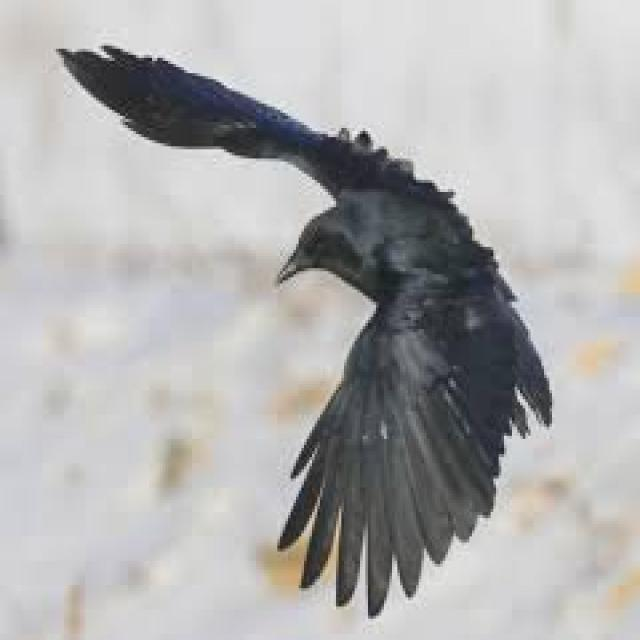crow: (121, 76, 504, 493)
